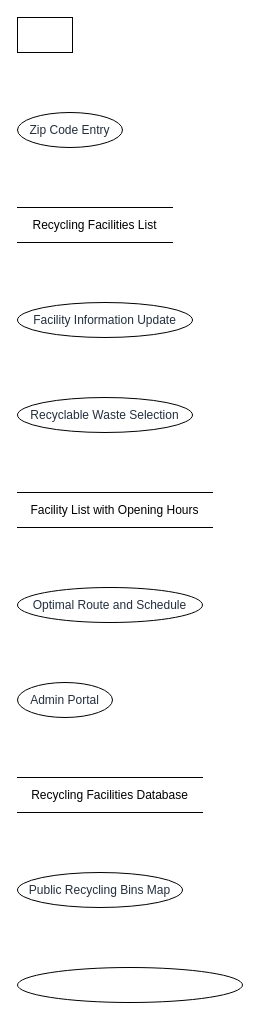
Some shapes in this 260 by 1020 pixel diagram are drawn without their labels. The shapes that lost their labels are listed below. From the top down, each one's box as (x1, y1, x2, y2) in pixels, then its label:
(16, 16, 72, 52): User
(16, 966, 242, 1002): Recycling Facility Information Update
